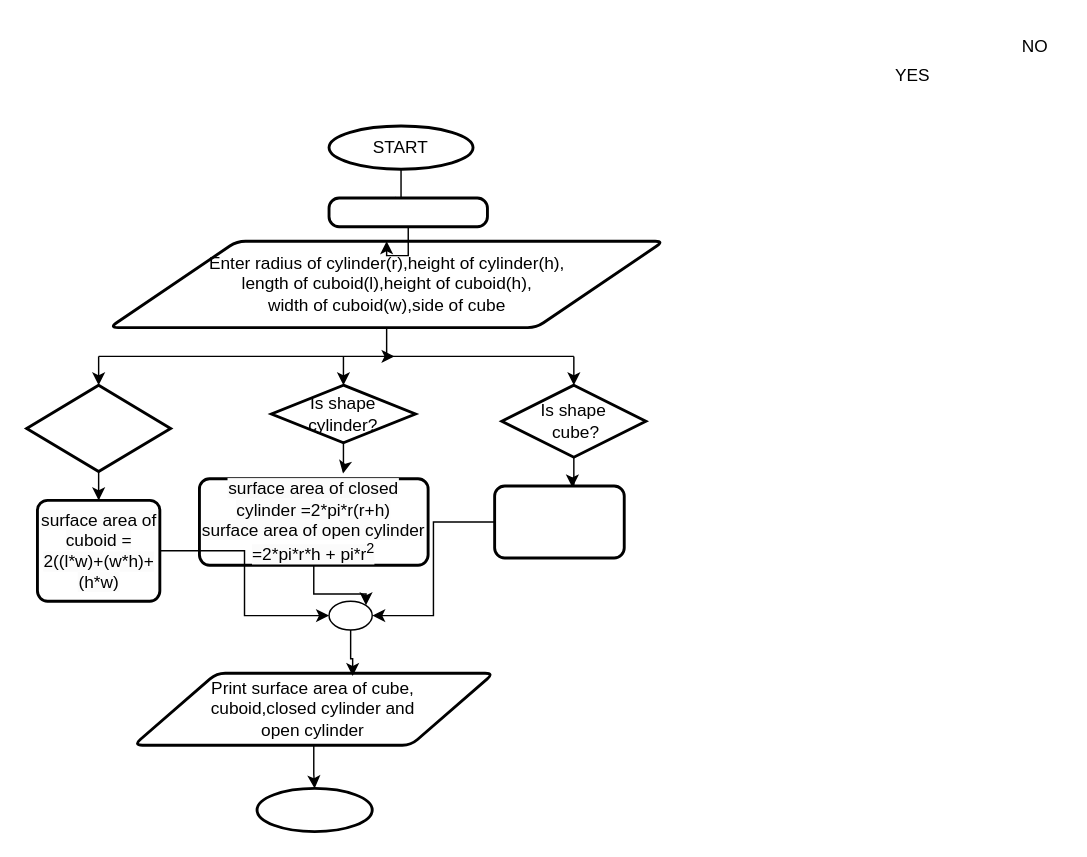
The diagram is 1087 pixels wide and 857 high, and some of its shapes have lost their labels. The shapes that lost their labels are listed below. From the top down, each one's box as (x1, y1, x2, y2) in pixels, then its label:
(327, 196, 488, 228): pi = 3.14
(24, 383, 171, 472): Is shape cuboid?
(492, 484, 625, 559): surface area of cube=6*s 2
(255, 786, 373, 832): STOP
